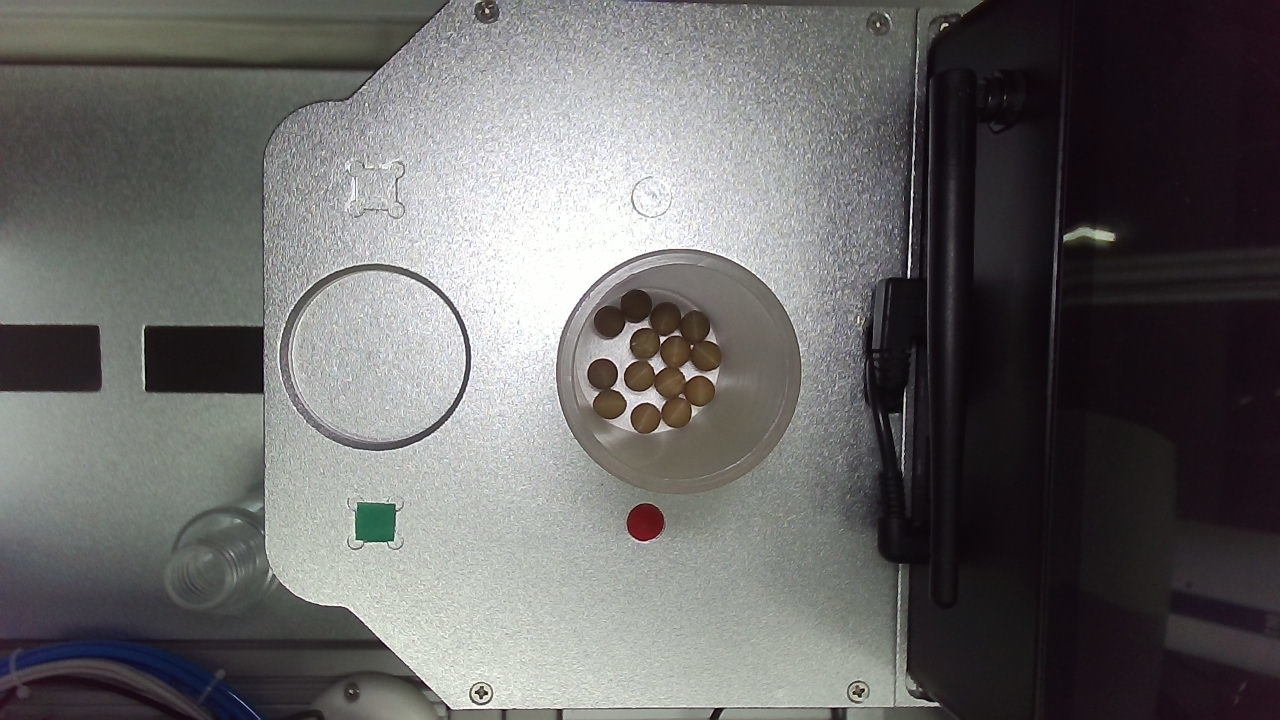XLabel: (773, 290, 807, 323)
YLabel: (554, 288, 589, 323)
none: (492, 358, 652, 520)
transparenexcept: (713, 352, 986, 562)
